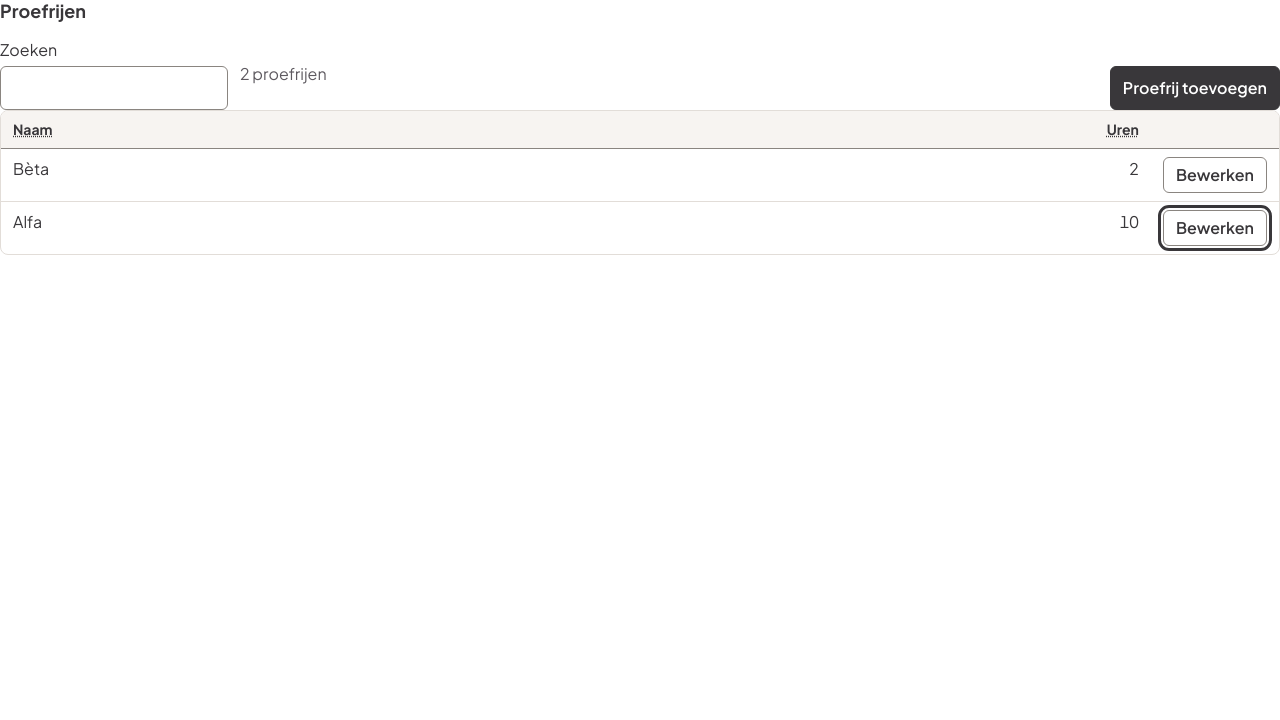
it: BeheerScherm: zijpaneel › sluiten zonder wijzigingen vraagt niets; de focus gaat terug naar de knop
Expected: the text "Alfa" is shown, x1=1 y1=201 x2=611 y2=254
Click the button with aria-label "Bewerken: Alfa".
click(1215, 228)  # box x1=1163 y1=210 x2=1267 y2=246
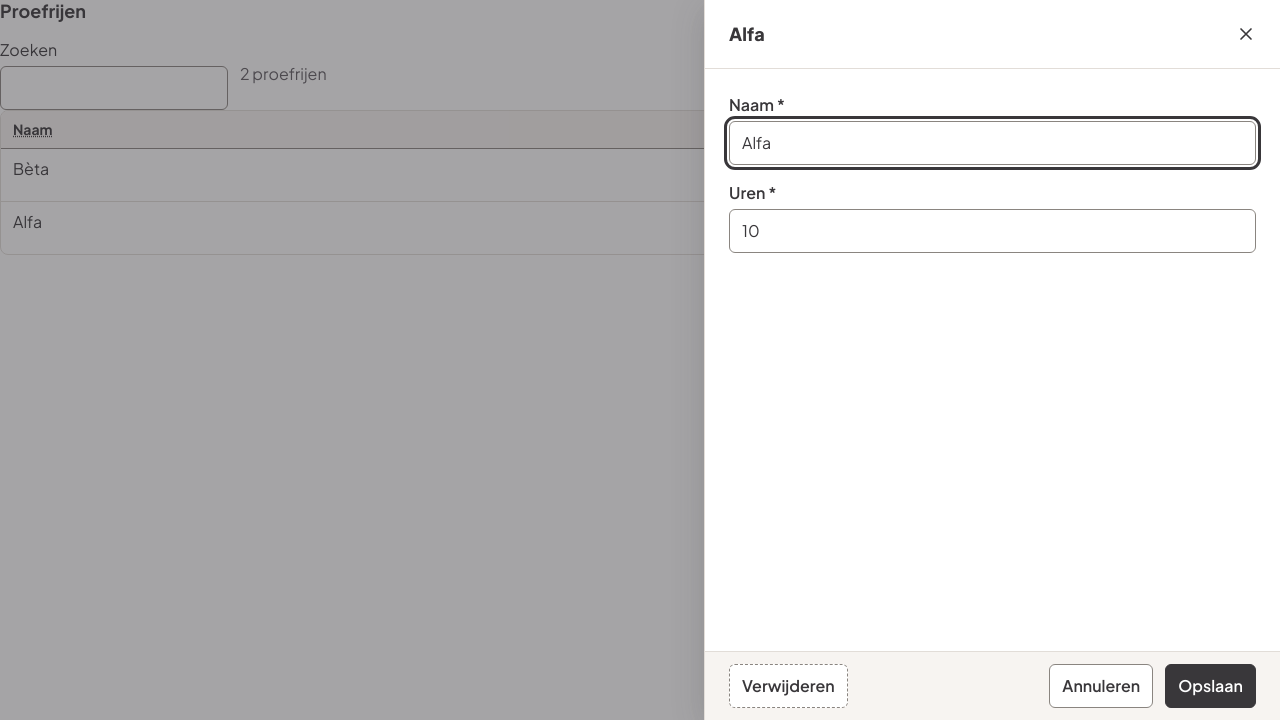
Click the button "Annuleren".
click(1101, 686)  # box x1=1049 y1=664 x2=1153 y2=708
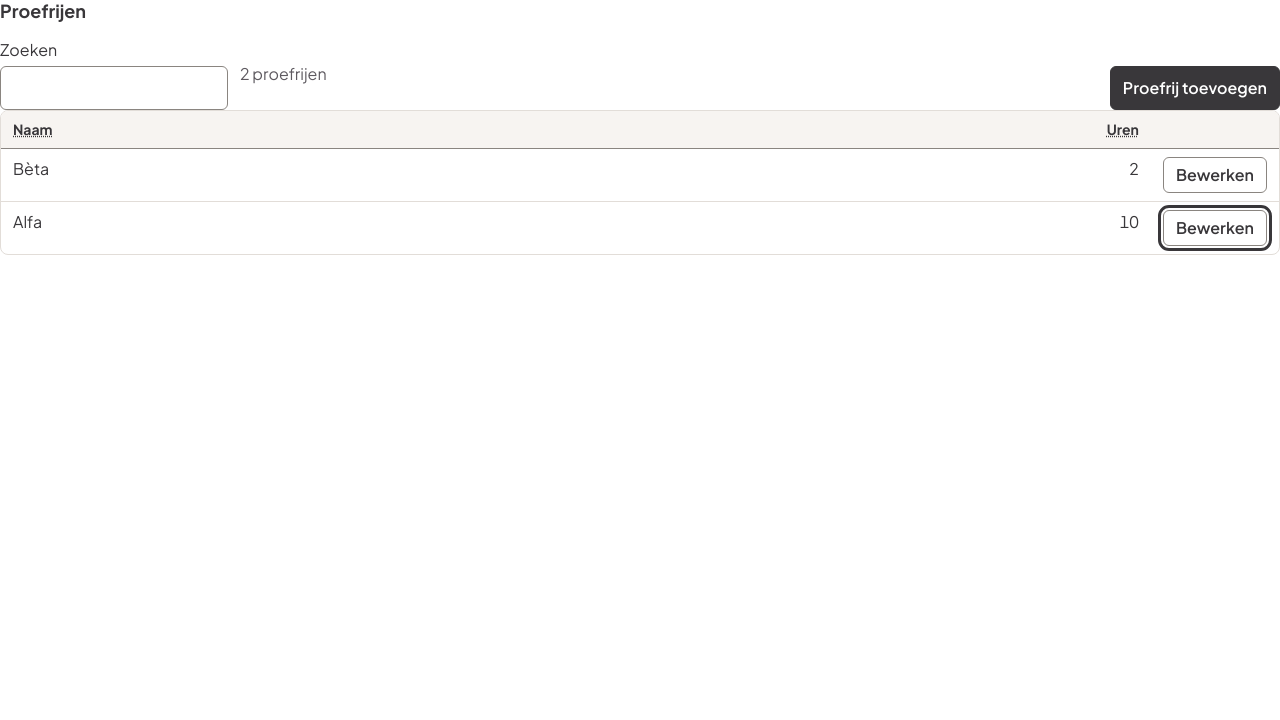
Expected: the dialog is gone
